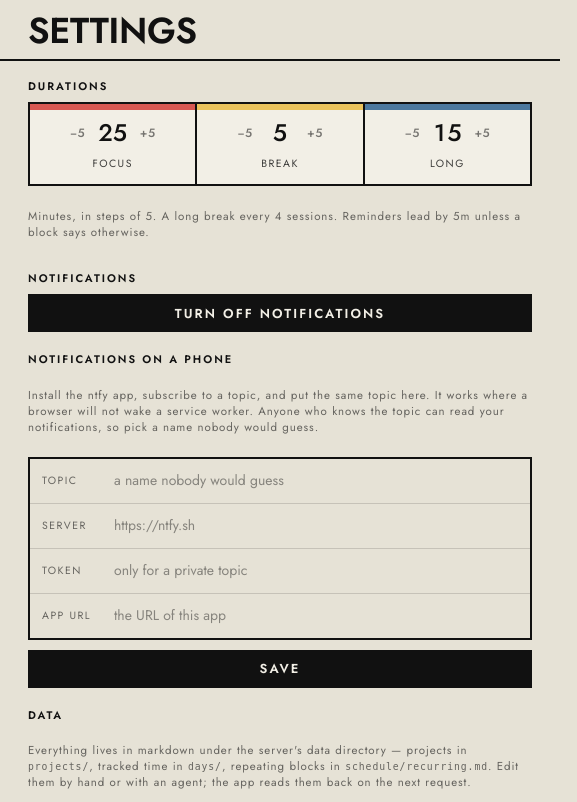
Scenario: the notifications toggle › says what went wrong and stays clickable when turning them off fails
Click the button "Turn off notifications" at x=280, y=313, box [28,294,532,332]
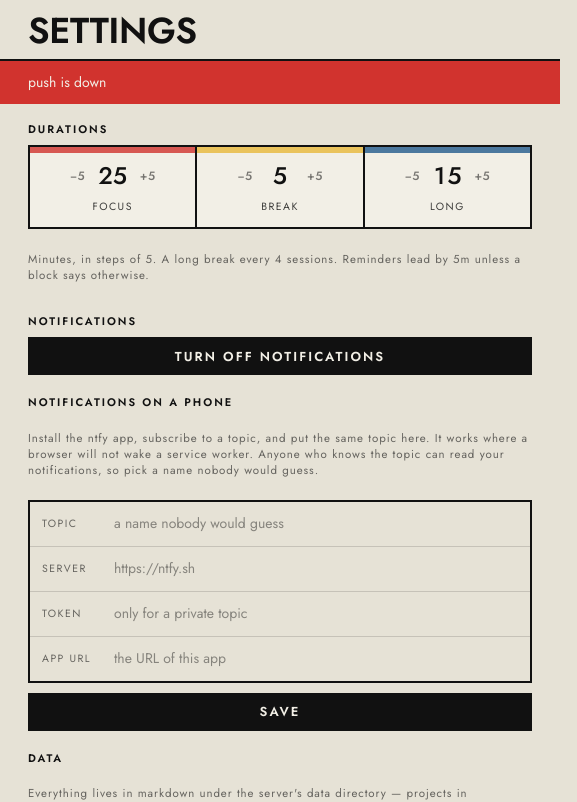
Expected: the button "Turn off notifications" is enabled, [28,337,532,375]
Result: the message reads "push is down" at [28,72,106,92]
